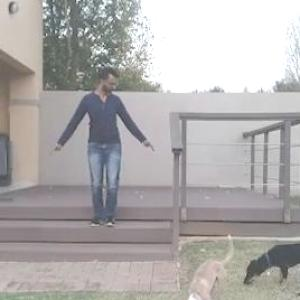land: (58, 67, 150, 239)
